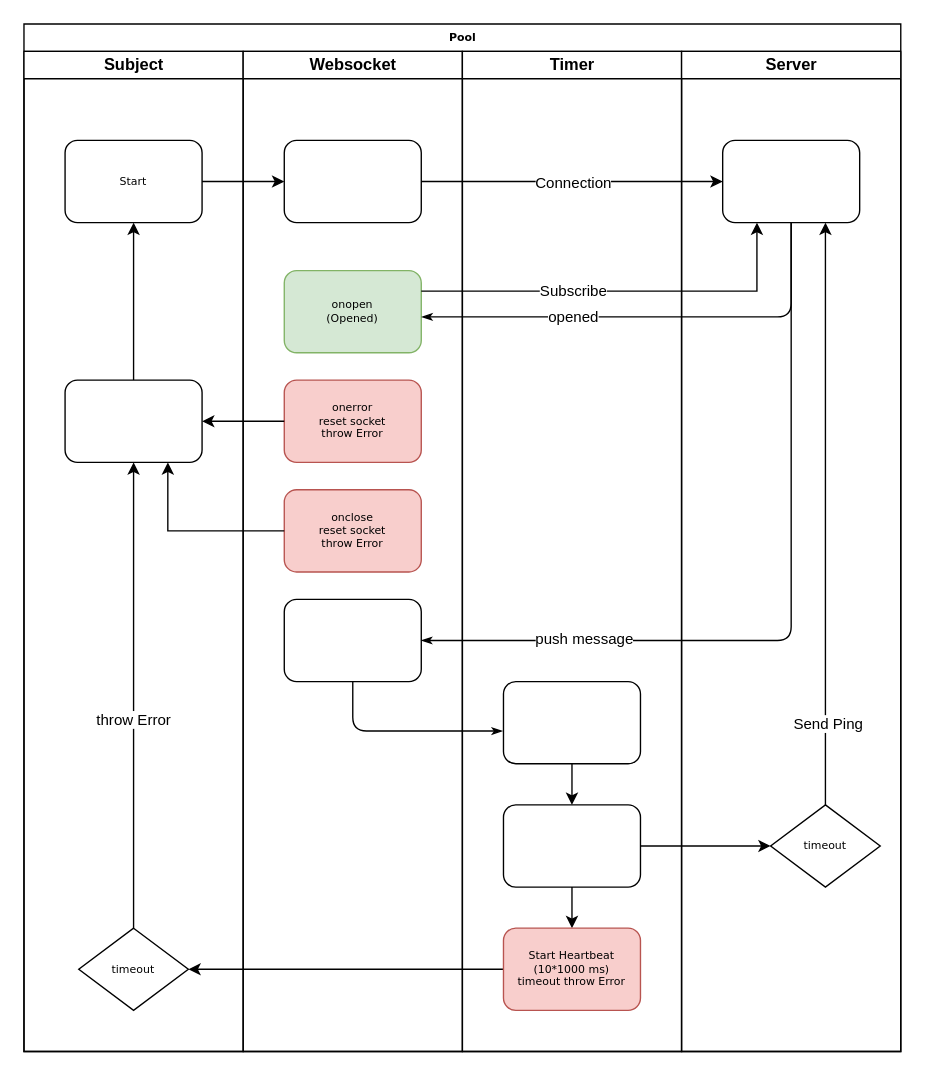
The diagram is 925 pixels wide and 1075 high, and some of its shapes have lost their labels. Here are the shapes that lost their labels. From the top down, the centre of each, then its label:
the point at 352,181: create Websocket (Opening)
the point at 790,181: Websocket Server
the point at 133,420: retryWhen Error (2*1000ms)
the point at 352,640: onmessage
the point at 571,722: clear heartbeat timeout
the point at 571,845: Start ping timeout (3*1000 ms)
